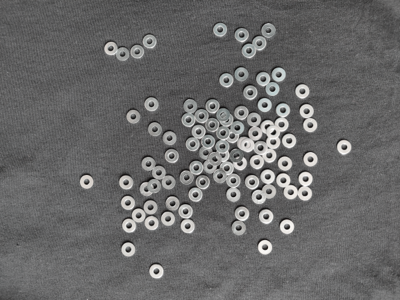circle: (294, 82, 313, 101), (149, 263, 166, 281), (230, 220, 248, 237), (303, 117, 321, 134), (121, 218, 138, 235), (260, 22, 277, 39), (245, 174, 262, 191), (233, 66, 251, 82), (219, 71, 235, 89), (258, 239, 274, 257), (225, 187, 243, 203), (102, 40, 119, 56), (117, 175, 134, 191), (180, 218, 197, 234), (233, 27, 250, 43), (242, 43, 259, 59), (297, 186, 313, 203), (258, 209, 275, 225), (262, 183, 278, 200), (204, 98, 220, 115), (282, 132, 298, 149), (79, 174, 95, 190), (147, 122, 163, 138), (147, 179, 163, 195), (303, 152, 319, 168), (279, 218, 295, 234), (300, 103, 316, 119), (163, 149, 180, 164), (188, 187, 203, 204), (298, 170, 313, 187), (276, 102, 291, 119), (142, 33, 158, 48), (144, 96, 159, 112), (120, 196, 136, 211), (162, 131, 178, 146), (141, 156, 156, 172), (162, 175, 177, 191), (139, 181, 154, 197), (144, 216, 160, 231), (178, 204, 194, 219), (213, 22, 229, 37), (189, 160, 204, 176), (278, 156, 293, 172), (260, 170, 276, 185), (191, 125, 207, 140), (258, 97, 273, 113), (248, 127, 263, 143), (127, 108, 141, 125), (166, 195, 180, 212), (161, 212, 176, 227), (235, 206, 250, 221), (252, 190, 267, 205), (229, 149, 244, 164), (205, 118, 220, 133), (256, 72, 271, 87), (250, 155, 265, 170), (131, 44, 145, 60), (120, 243, 136, 257), (152, 166, 168, 180), (196, 175, 210, 191), (226, 174, 242, 188), (195, 108, 209, 124), (216, 108, 232, 122), (225, 128, 239, 144), (272, 68, 288, 82), (254, 140, 268, 156), (262, 149, 278, 163), (180, 170, 194, 185), (337, 140, 351, 155), (284, 186, 298, 201), (219, 163, 234, 177), (186, 138, 201, 152), (233, 157, 248, 171), (183, 100, 198, 114), (220, 113, 235, 127), (231, 120, 245, 135), (235, 105, 249, 120), (243, 86, 258, 100), (247, 113, 262, 127), (241, 138, 255, 153), (267, 125, 281, 140), (275, 118, 290, 132), (266, 136, 281, 150), (265, 83, 281, 96), (116, 47, 130, 61), (132, 209, 146, 223), (144, 201, 158, 215), (253, 36, 267, 50), (277, 174, 291, 188), (204, 160, 218, 174), (216, 140, 230, 154), (202, 135, 216, 149), (237, 137, 251, 151), (261, 120, 275, 134), (214, 169, 227, 184), (217, 125, 230, 140), (208, 153, 222, 166), (200, 147, 214, 160), (215, 150, 229, 163), (181, 114, 196, 126)
